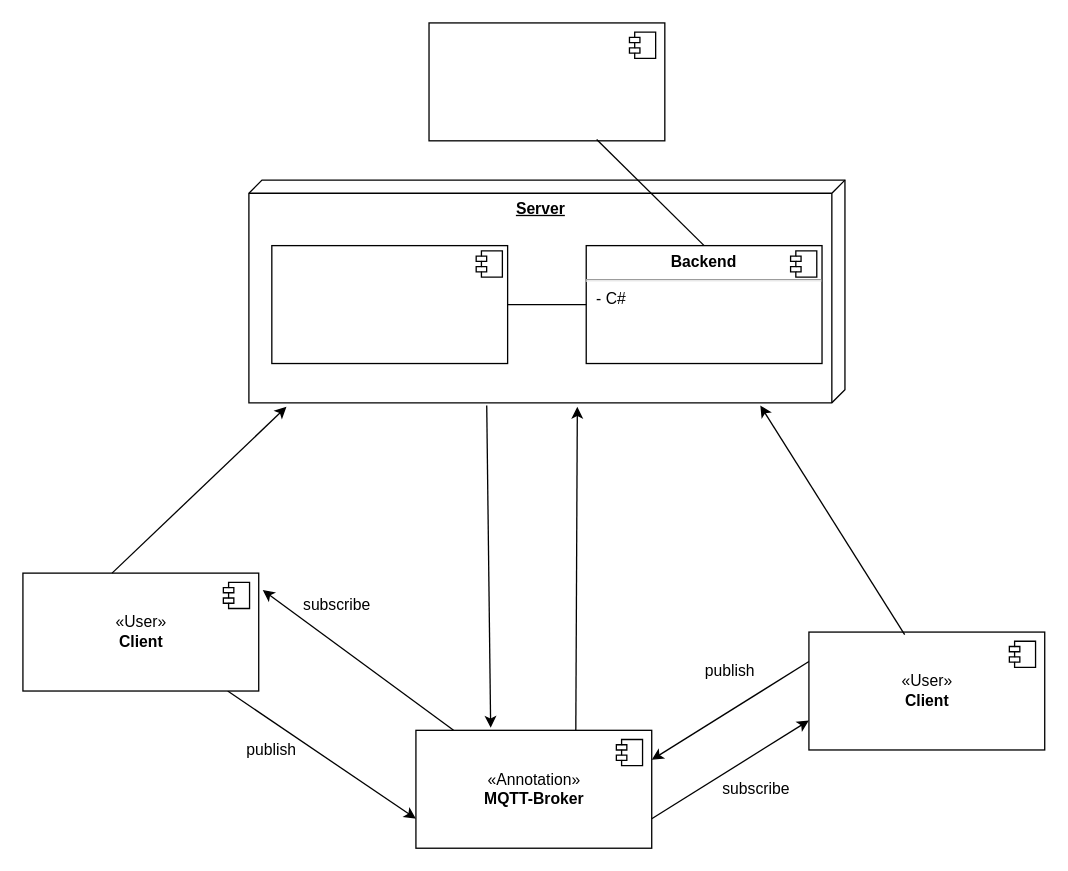
The diagram is 1068 pixels wide and 871 high, and some of its shapes have lost their labels. The centre of each missing label's shape, as x and y in pixels:
"Frontend - vue.js" belongs at [389,304].
"«Database Server» PostgresDB" belongs at [546,81].
